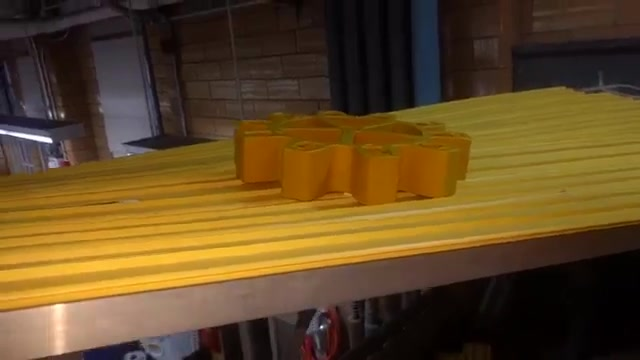gear: (228, 95, 481, 206)
